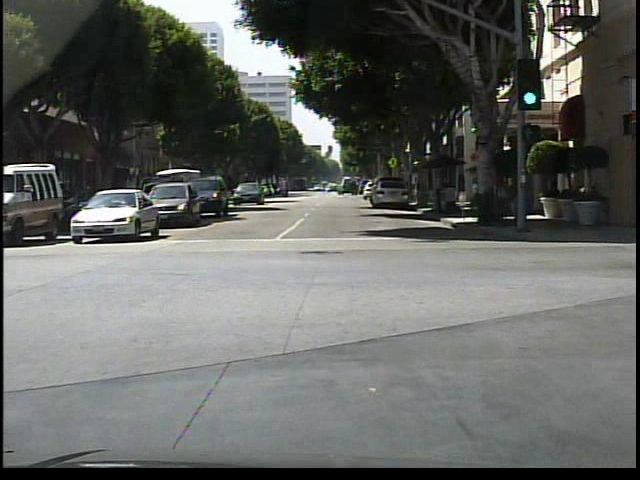person: (513, 162, 529, 230), (434, 171, 449, 216), (281, 183, 289, 200)
